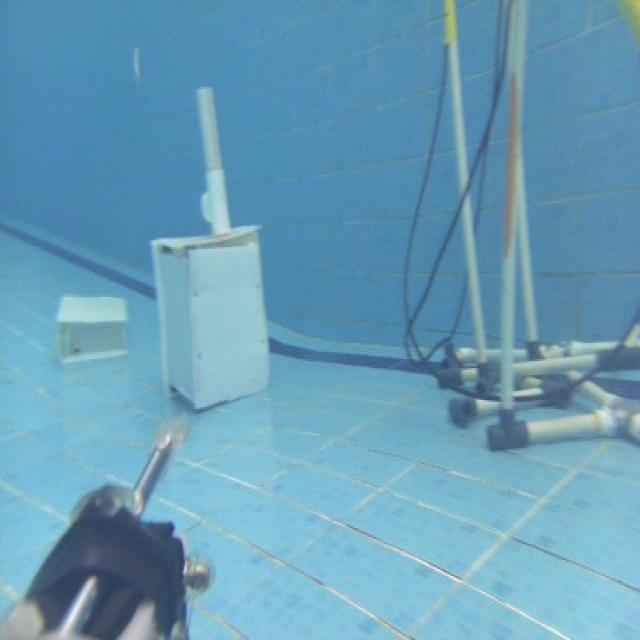Cube: (149, 222, 271, 411)
Cuboid: (55, 292, 129, 364)
